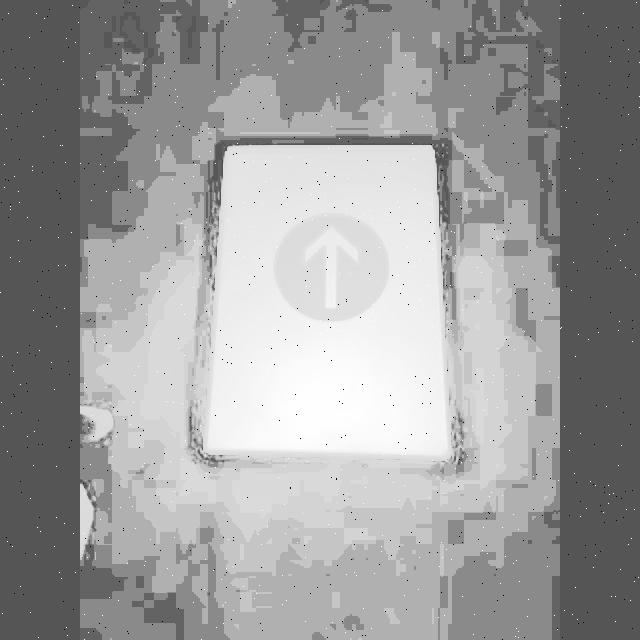GO FORWARD: (274, 214, 390, 320)
